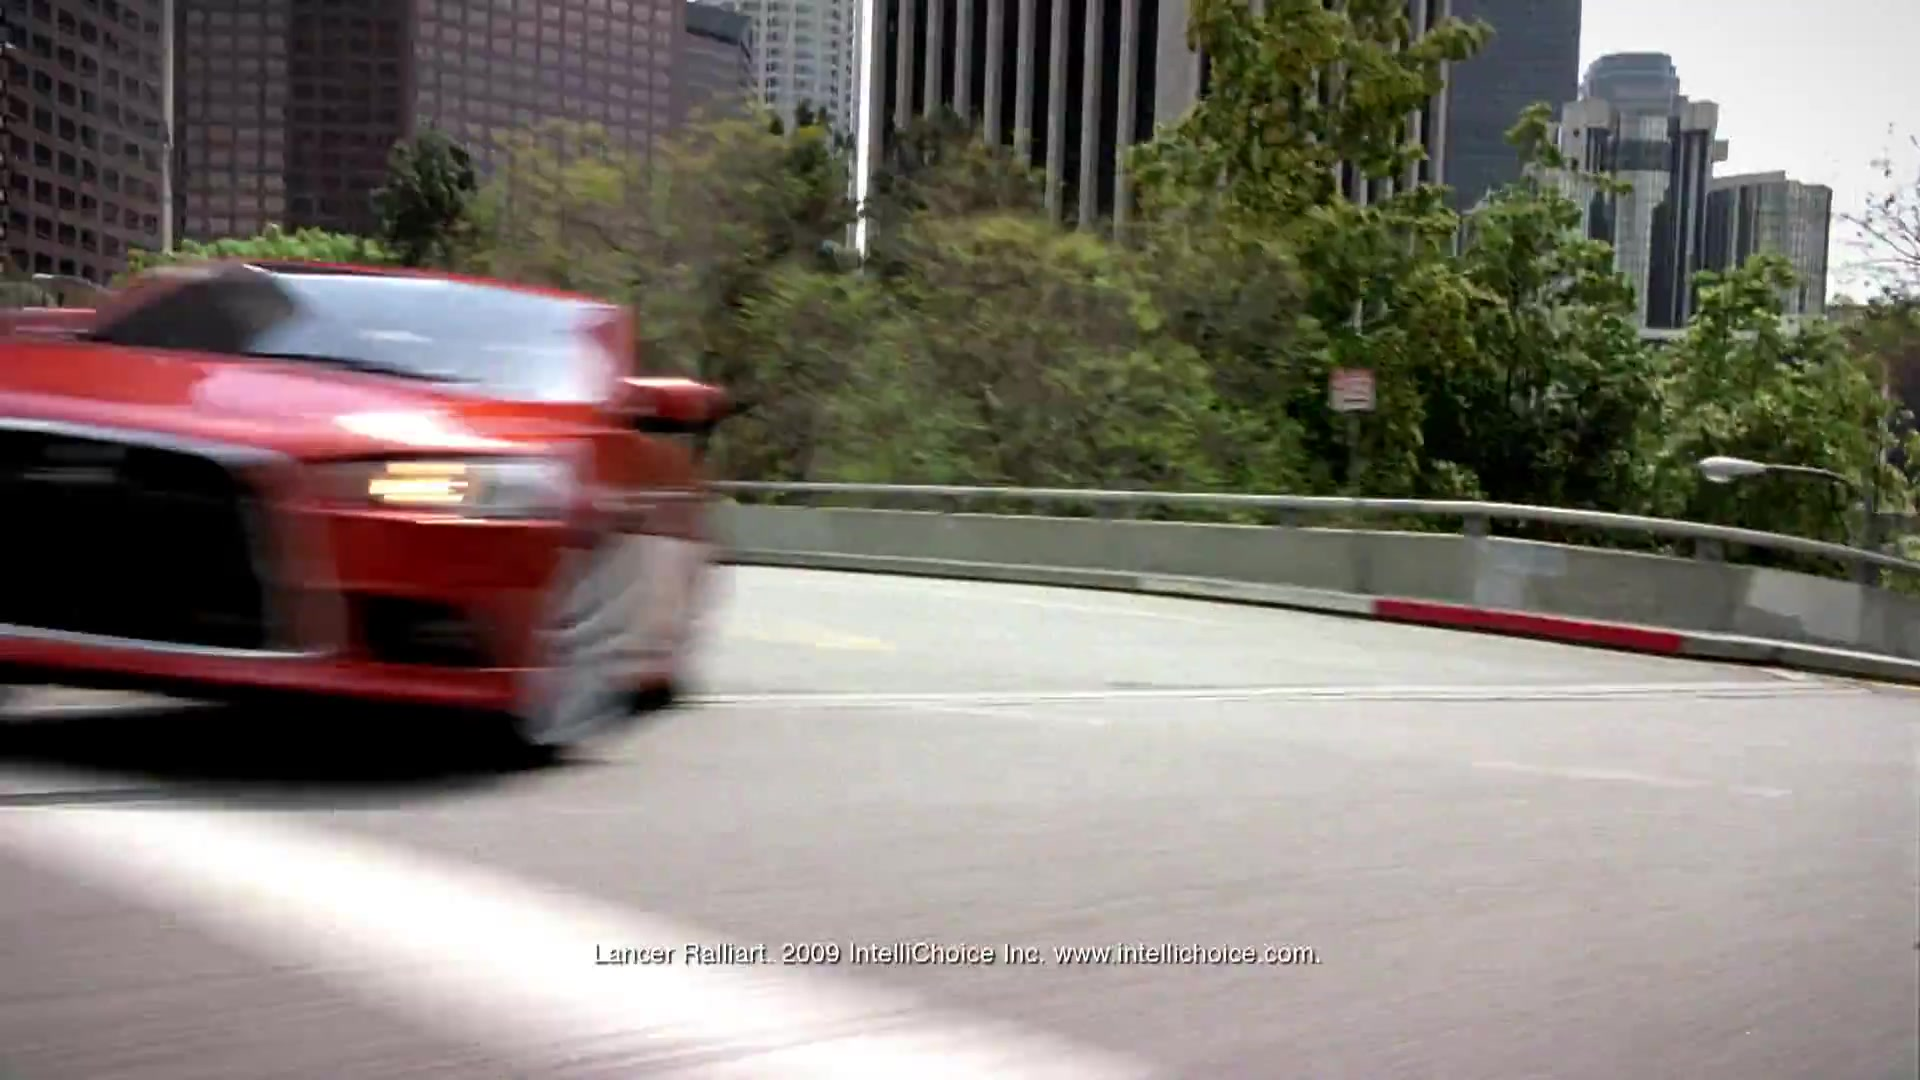car: (4, 243, 738, 764)
